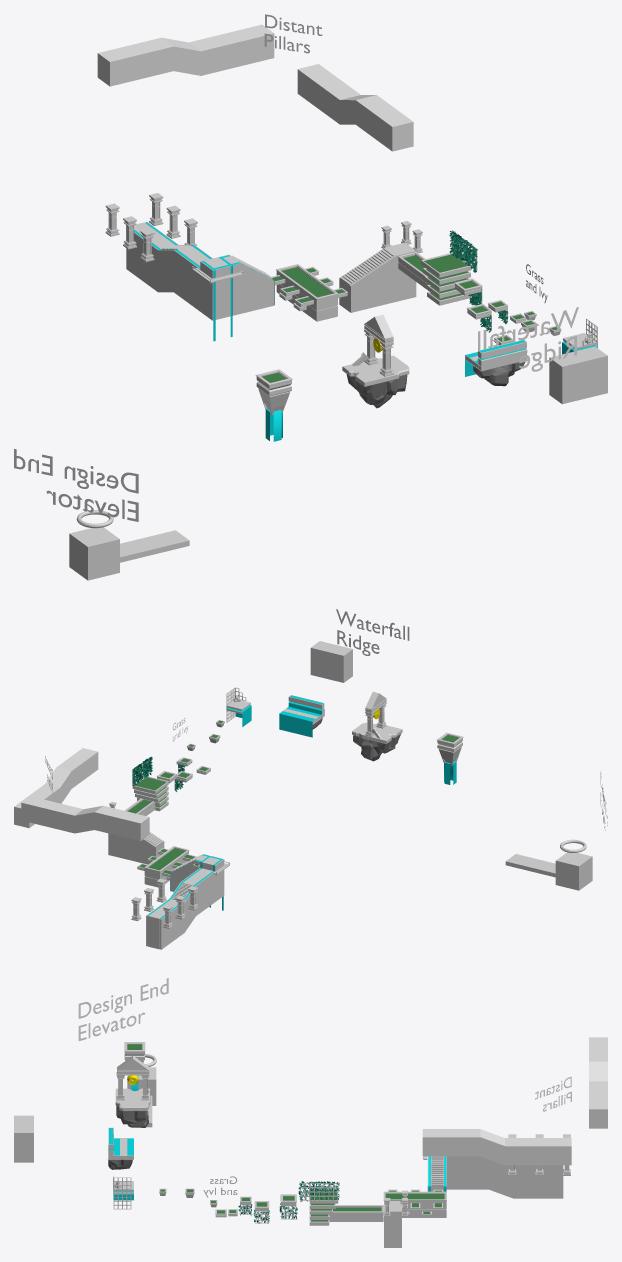
Rendered from Sledge_NEOLEVEL.fbx.
The picture shows the model from 3 angles, top to bottom: view 1: azimuth 30°, elevation 25°; view 2: azimuth 150°, elevation 25°; view 3: azimuth 270°, elevation 25°; orthographic projection. The views are drawn at different scales.
Visible parts, largest first — view 1: Cube.012, Cube.010, Cube, Cube.011, Cube.017, Cube.029, Cube.043, Cube.035, Text.003, Text, Cube.014, Cube.023 (+5 smaller); view 2: Cube.012, Cube, Cube.010, Cube.029, Cube.043, Cube.017, Cube.011, Cube.020, Cube.035, Text, Cube.023, Mball.001 (+4 smaller); view 3: Cube.010, Cube, Cube.012, Text.003, Cube.029, Plane.002 - copy.001, Cube.024, Cube.028, Cube.014, Cube.035, Cube.017, Cube.021 (+9 smaller).
Part boxes in pixels (x1,y1,x2,y2): Cube.012: (97, 24, 274, 86); Cube.010: (297, 64, 413, 151); Cube: (126, 222, 212, 311); Cube.011: (200, 254, 274, 341); Cube.017: (339, 242, 416, 312); Cube.029: (549, 346, 607, 404); Cube.043: (69, 527, 119, 580); Cube.035: (421, 252, 470, 305); Text.003: (14, 449, 138, 521); Text: (478, 307, 578, 371); Cube.014: (276, 264, 338, 321); Cube.023: (120, 530, 189, 562); Cube.012: (21, 796, 149, 841); Cube: (146, 868, 215, 949); Cube.010: (14, 748, 98, 828); Cube.029: (310, 641, 352, 682); Cube.043: (555, 852, 592, 890); Cube.017: (108, 832, 164, 864); Cube.011: (170, 854, 224, 910); Cube.020: (279, 701, 324, 737); Cube.035: (132, 776, 168, 811); Text: (336, 609, 409, 655); Cube.023: (505, 854, 555, 877); Mball.001: (353, 733, 401, 761); Cube.010: (422, 1129, 571, 1165); Cube: (446, 1156, 563, 1198); Cube.012: (589, 1037, 607, 1128); Text.003: (78, 978, 168, 1040); Cube.029: (14, 1115, 33, 1162); Plane.002 - copy.001: (238, 1181, 339, 1223); Cube.024: (329, 1205, 383, 1221); Cube.028: (240, 1183, 338, 1223); Cube.014: (383, 1191, 446, 1217); Cube.035: (309, 1188, 338, 1225); Cube.017: (384, 1202, 401, 1247); Cube.021: (115, 1088, 150, 1111).
Bounding box in the file's own units: 280 × 117 × 327.
